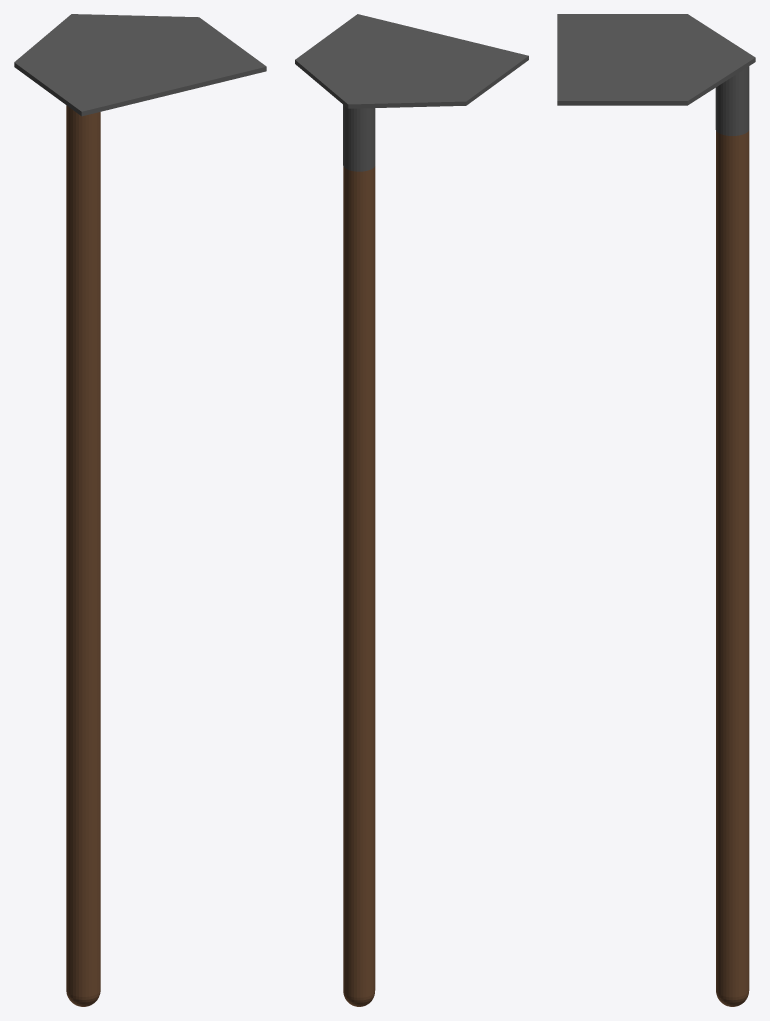
File: Hoe1.fbx
3 renders of one model, left to right at view 1: azimuth 30°, elevation 25°; view 2: azimuth 150°, elevation 25°; view 3: azimuth 270°, elevation 25°, orthographic. The views are drawn at different scales.
Visible parts, largest first — view 1: Hoe; view 2: Hoe; view 3: Hoe.
Boxes of the visible parts, left/top/right/bottom form: Hoe: left=14, top=14, right=266, bottom=1006; Hoe: left=295, top=14, right=528, bottom=1006; Hoe: left=557, top=14, right=755, bottom=1006.
Bounding box in the file's own units: 138 × 703 × 133.
